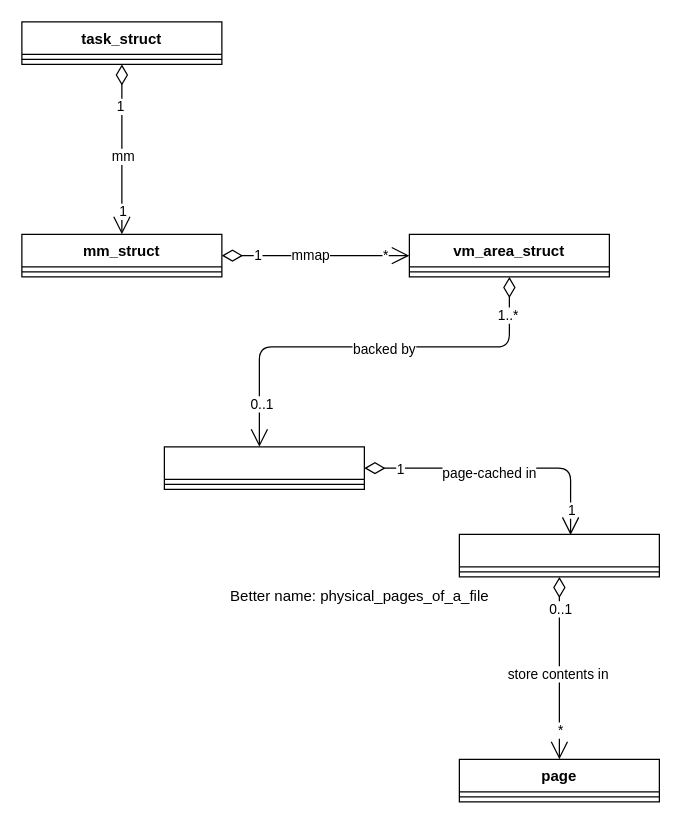
This 681x824 diagram has some shape labels left out. The centre of each missing label's shape, as x and y in pixels:
"address_space" belongs at point (558, 555).
"file" belongs at point (263, 467).
